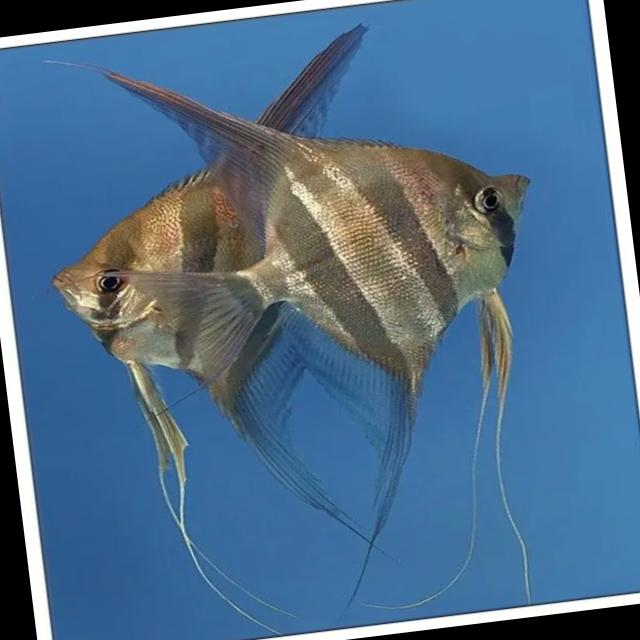AngelFish: (102, 5, 578, 582), (28, 23, 390, 590)
